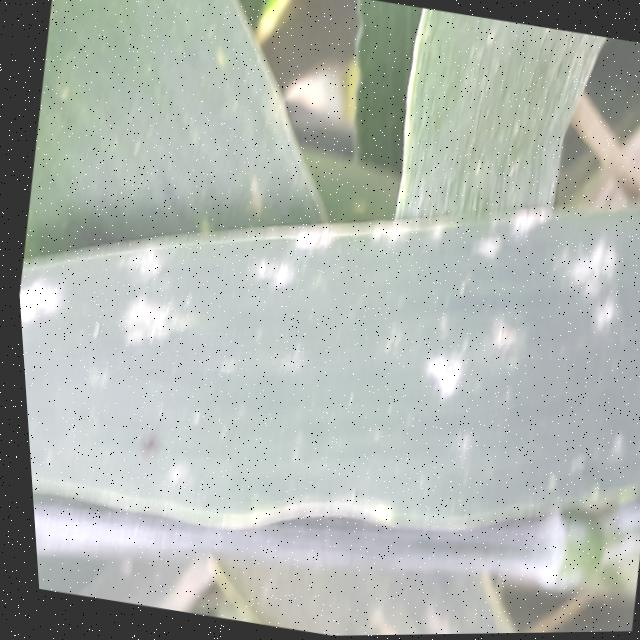powder_mildew: (6, 102, 640, 589)
